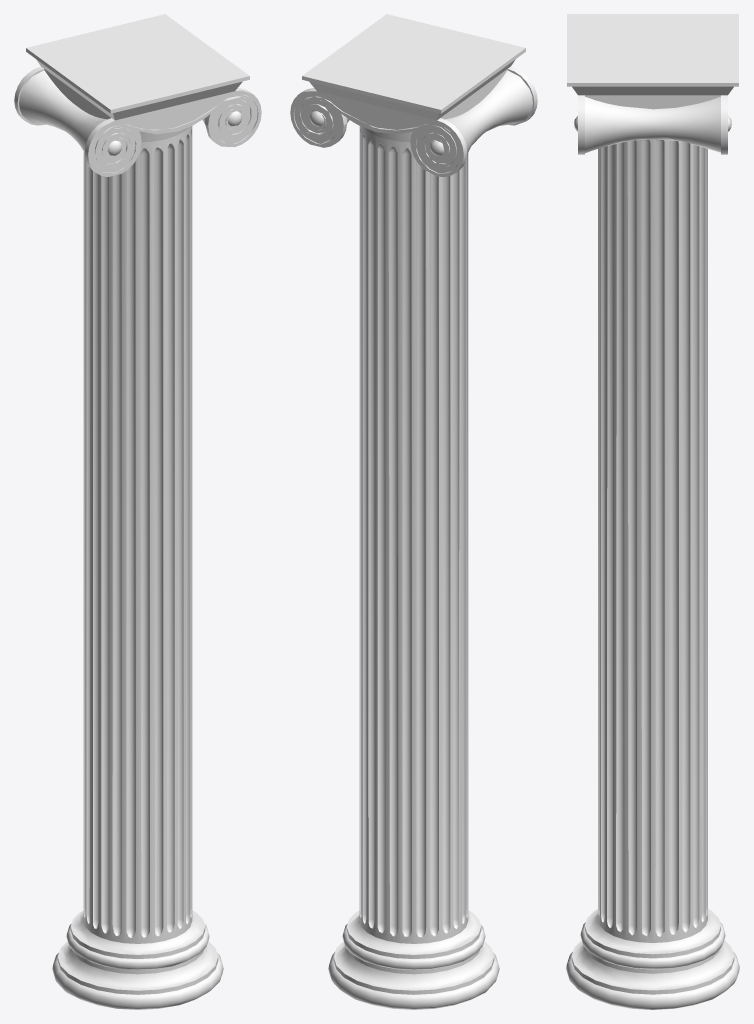
The model's file is column.glb.
3 views of the same model, side by side, from view 1: azimuth 30°, elevation 25°; view 2: azimuth 150°, elevation 25°; view 3: azimuth 270°, elevation 25° (orthographic).
Parts seen in each view (by area): view 1: Material2; view 2: Material2; view 3: Material2.
Boxes of the visible parts, x1,y1,x2,y2 form: Material2: [14, 14, 261, 1009]; Material2: [290, 14, 537, 1009]; Material2: [566, 14, 739, 1009].
Bounding box in the file's own units: 72.8 × 366 × 62.21.
Materials: 1 (1 with a texture image).
